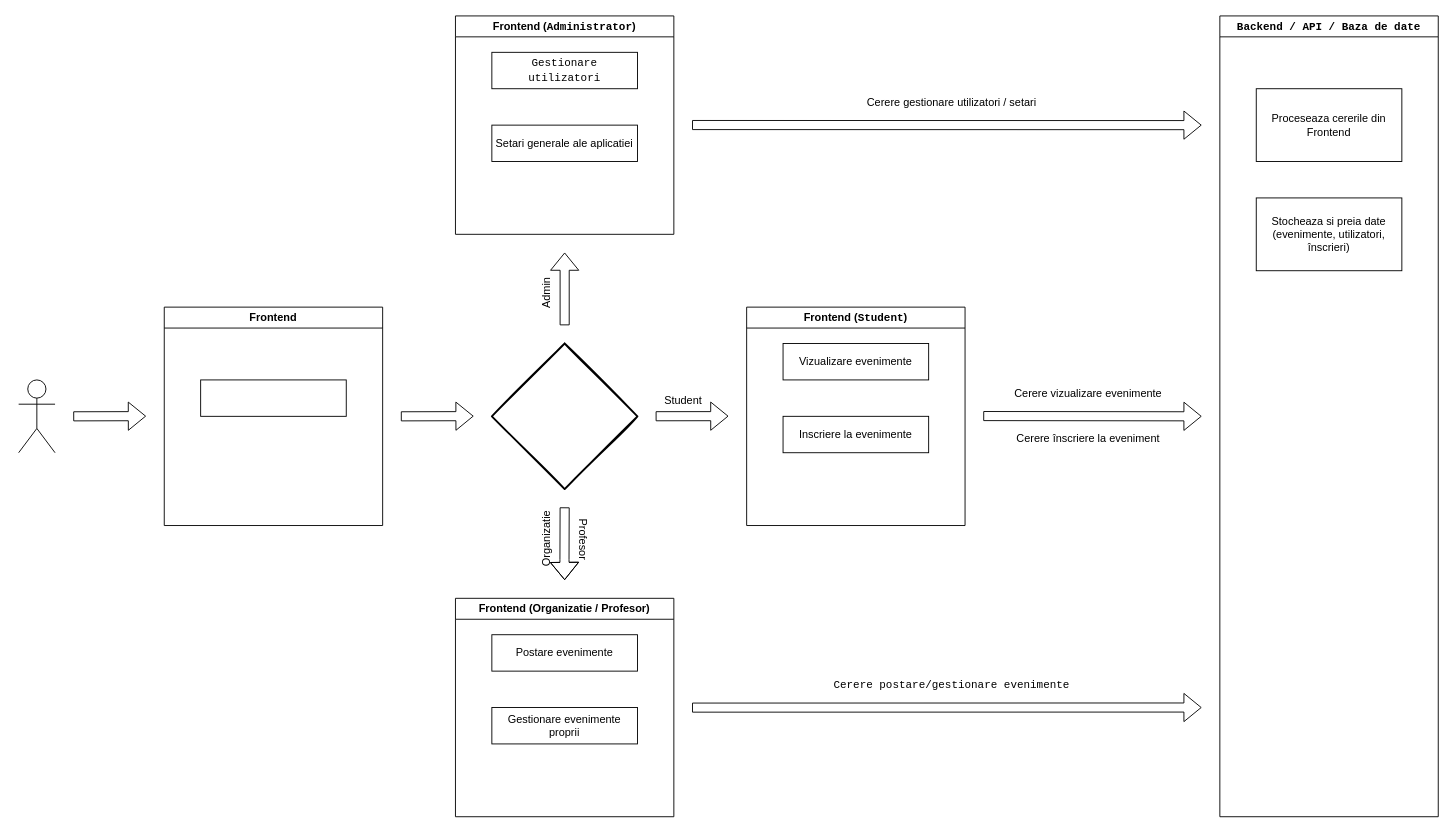
Some shapes in this 1454 by 833 pixel diagram are drawn without their labels. The centre of each missing label's shape, as x and y in pixels:
"Autentificare" goes at (273,397).
"Utilizator" goes at (36,416).
"Verificare rol" goes at (564,416).
